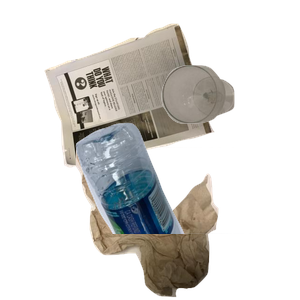glass: (159, 63, 300, 179)
paper: (42, 21, 249, 181)
plastic: (73, 120, 300, 300)
trash: (73, 147, 300, 300)
